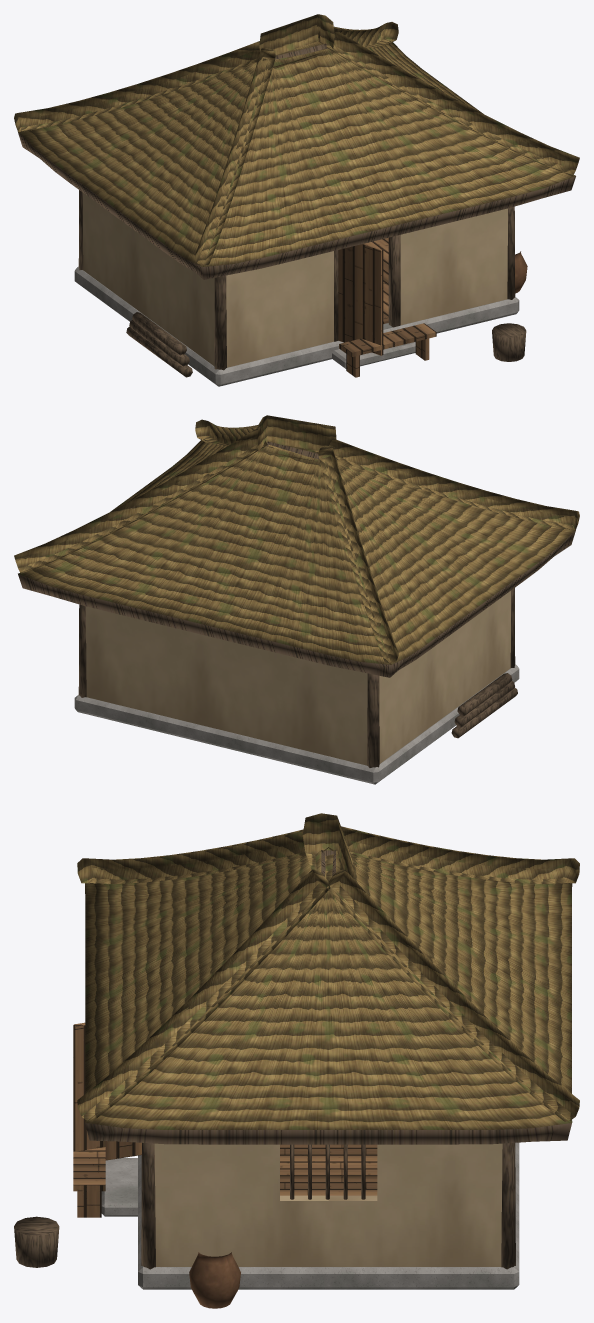
The model's file is hermit_hut.glb.
The picture shows the model from 3 angles, top to bottom: view 1: azimuth 30°, elevation 25°; view 2: azimuth 150°, elevation 25°; view 3: azimuth 270°, elevation 25°; orthographic projection. The views are drawn at different scales.
Visible parts, largest first — view 1: HutRoof, HutWalls, HutRoofRidges, HutPlanks, HutBase, HutTimber, HutWoodpile; view 2: HutRoof, HutWalls, HutRoofRidges, HutBase, HutTimber, HutWoodpile; view 3: HutRoof, HutWalls, HutRoofRidges, HutBase, HutPlanks, HutTimber, HutJar, HutWoodpile.
Boxes of the visible parts, <box> form: HutRoof: <box>18,41,575,279</box>; HutWalls: <box>83,193,508,367</box>; HutRoofRidges: <box>14,14,579,265</box>; HutPlanks: <box>338,237,436,377</box>; HutBase: <box>74,266,519,386</box>; HutTimber: <box>78,190,515,370</box>; HutWoodpile: <box>126,312,526,377</box>; HutRoof: <box>18,439,575,677</box>; HutWalls: <box>85,591,510,765</box>; HutRoofRidges: <box>14,415,579,663</box>; HutBase: <box>74,664,519,784</box>; HutTimber: <box>78,588,515,767</box>; HutWoodpile: <box>451,673,517,738</box>; HutRoof: <box>85,850,572,1144</box>; HutWalls: <box>154,1143,502,1266</box>; HutRoofRidges: <box>77,813,579,1121</box>; HutBase: <box>101,1142,519,1289</box>; HutPlanks: <box>73,1022,377,1217</box>; HutTimber: <box>141,1143,515,1269</box>; HutJar: <box>189,1252,240,1308</box>; HutWoodpile: <box>14,1216,59,1267</box>.
Size of what is drawn, in the model's own units: 7.2 by 4.91 by 6.98.
Materials: 7 (6 with a texture image).
